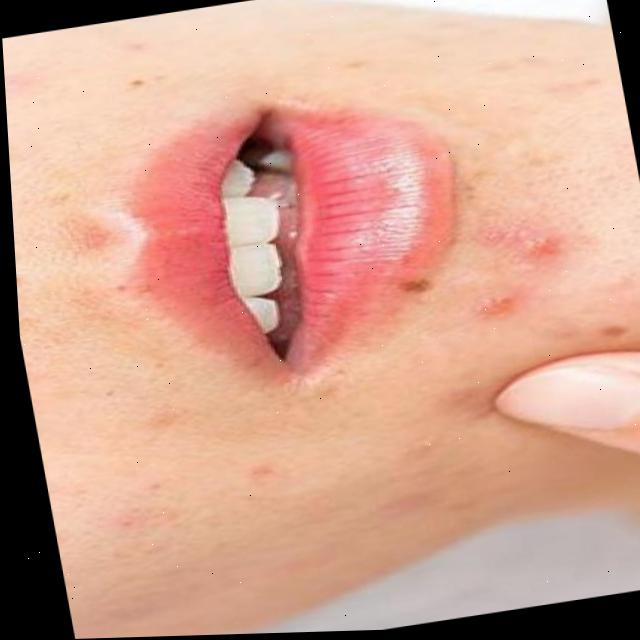Acne: (397, 214, 635, 400)
